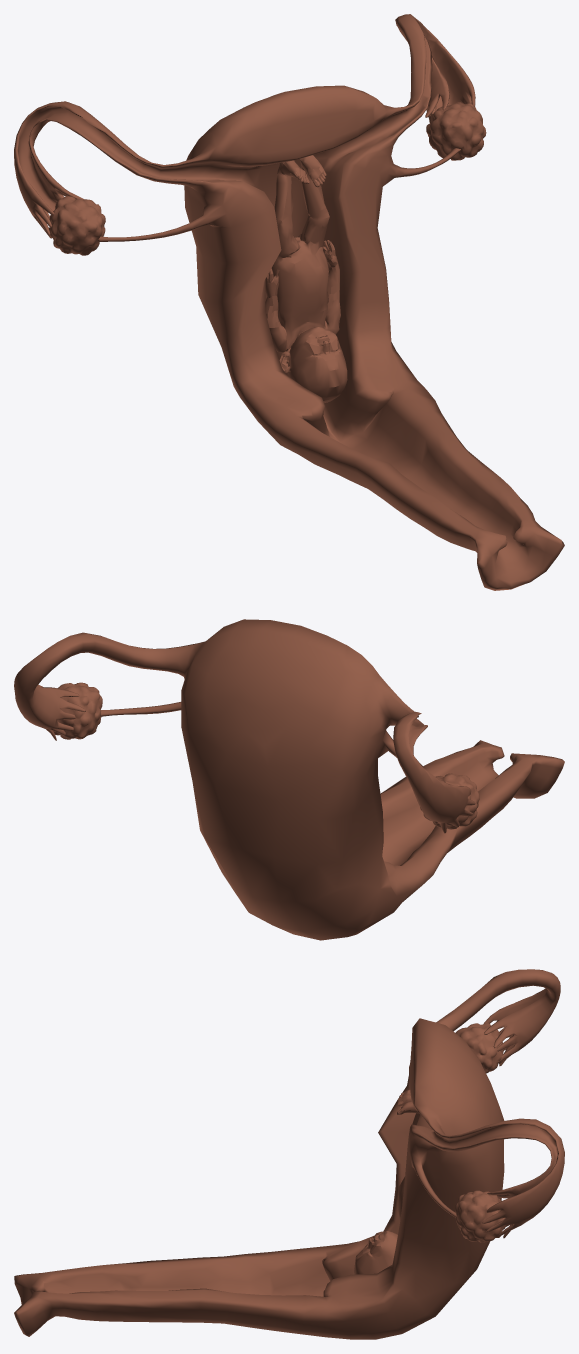
Rendered from Uterus vagina.fbx.
3 views of the same model, one above another, from view 1: azimuth 30°, elevation 25°; view 2: azimuth 150°, elevation 25°; view 3: azimuth 270°, elevation 25° (orthographic). The views are drawn at different scales.
Parts seen in each view (by area): view 1: REPRODUCTIONEPRODUCTIONINANIMALS:Uterus_XSection:UterusCross, fetus1, REPRODUCTIONEPRODUCTIONINANIMALS:Uterus_XSection:Ovary001, REPRODUCTIONEPRODUCTIONINANIMALS:Uterus_XSection:Ovary002; view 2: REPRODUCTIONEPRODUCTIONINANIMALS:Uterus_XSection:UterusCross, REPRODUCTIONEPRODUCTIONINANIMALS:Uterus_XSection:Ovary002, REPRODUCTIONEPRODUCTIONINANIMALS:Uterus_XSection:Ovary001; view 3: REPRODUCTIONEPRODUCTIONINANIMALS:Uterus_XSection:UterusCross, fetus1, REPRODUCTIONEPRODUCTIONINANIMALS:Uterus_XSection:Ovary002, REPRODUCTIONEPRODUCTIONINANIMALS:Uterus_XSection:Ovary001.
Boxes of the visible parts, x1,y1,x2,y2 form: REPRODUCTIONEPRODUCTIONINANIMALS:Uterus_XSection:UterusCross: (14, 14, 564, 590); fetus1: (265, 155, 347, 402); REPRODUCTIONEPRODUCTIONINANIMALS:Uterus_XSection:Ovary001: (49, 196, 105, 255); REPRODUCTIONEPRODUCTIONINANIMALS:Uterus_XSection:Ovary002: (426, 102, 486, 160); REPRODUCTIONEPRODUCTIONINANIMALS:Uterus_XSection:UterusCross: (14, 619, 564, 940); REPRODUCTIONEPRODUCTIONINANIMALS:Uterus_XSection:Ovary002: (53, 682, 102, 739); REPRODUCTIONEPRODUCTIONINANIMALS:Uterus_XSection:Ovary001: (420, 773, 479, 829); REPRODUCTIONEPRODUCTIONINANIMALS:Uterus_XSection:UterusCross: (14, 969, 564, 1339); fetus1: (354, 1090, 432, 1274); REPRODUCTIONEPRODUCTIONINANIMALS:Uterus_XSection:Ovary002: (455, 1190, 505, 1242); REPRODUCTIONEPRODUCTIONINANIMALS:Uterus_XSection:Ovary001: (455, 1023, 504, 1073).
Size of the model in its own units: 265 by 191 by 318.
